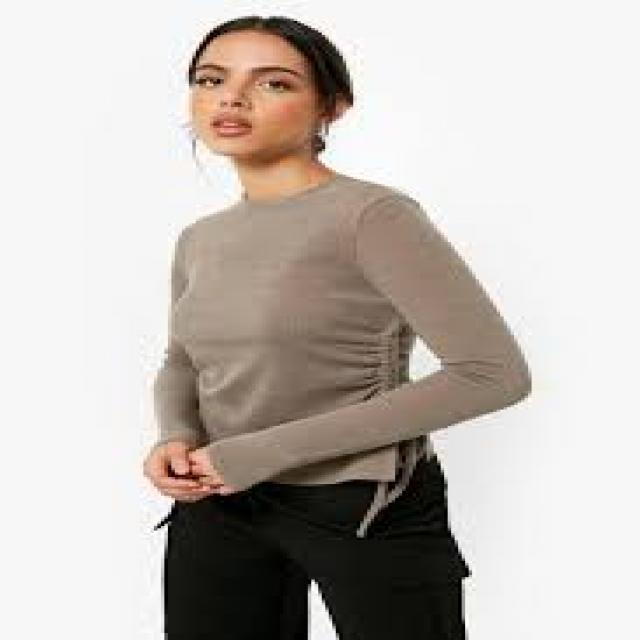plain: (130, 170, 542, 492)
